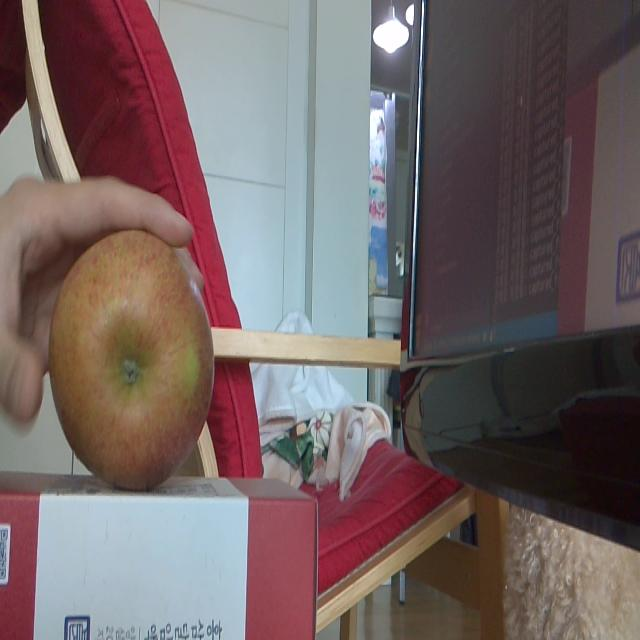apple: (48, 227, 216, 493)
